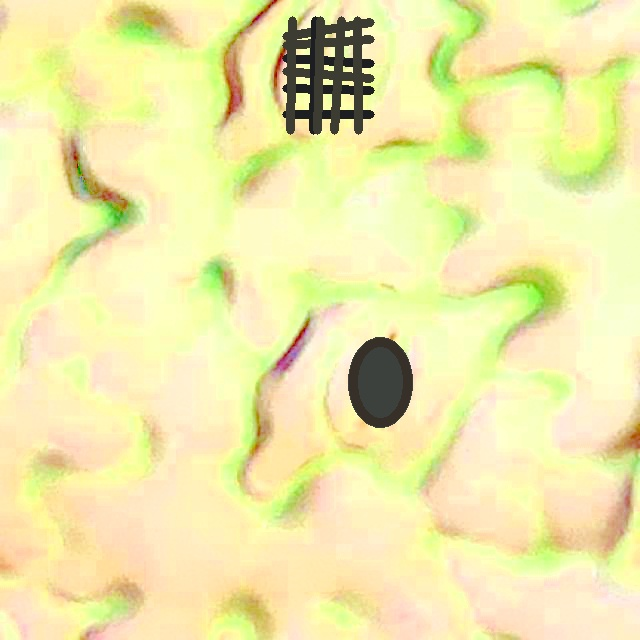close: (283, 16, 374, 133)
open: (348, 337, 411, 427)
